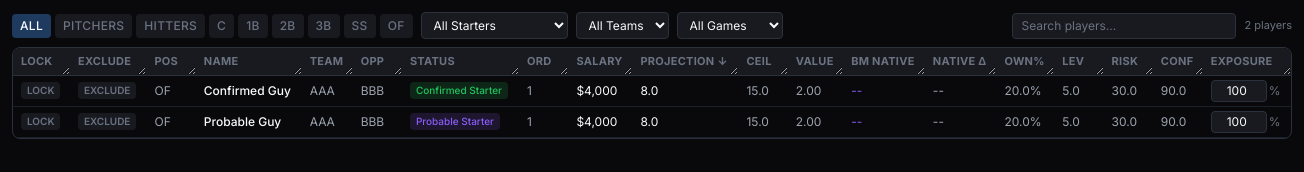
Test: PoolTable › the Starter filter narrows to Confirmed vs Probable
Select "Confirmed Starters" in the 1st dropdown showing "All Starters" at (494,26), box x1=420 y1=12 x2=568 y2=39
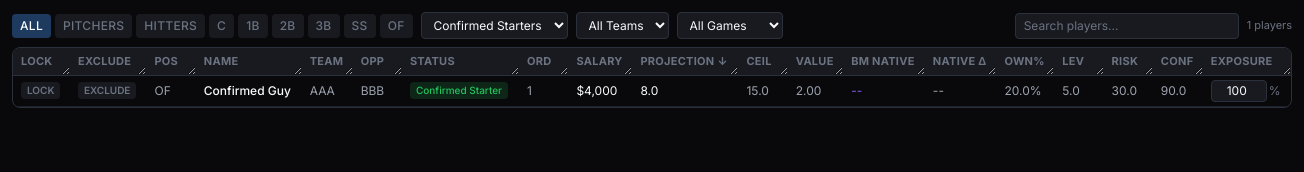
expect the button "Confirmed Guy" is shown: met, box x1=204 y1=83 x2=291 y2=99
expect the button "Probable Guy" is gone: met
Select "Probable Starters" in the 1st dropdown showing "Confirmed Starters" at (494,26), box x1=420 y1=12 x2=568 y2=39
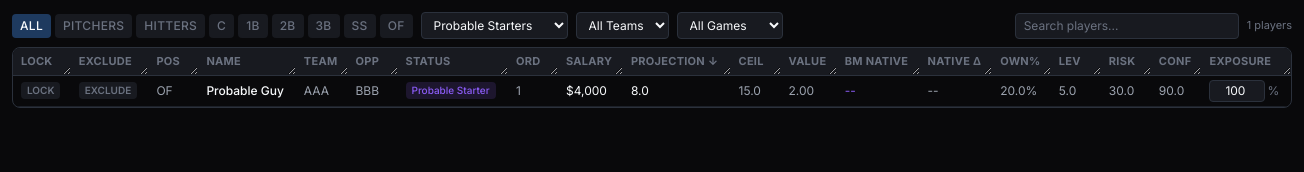
expect the button "Confirmed Guy" is gone: met
expect the button "Probable Guy" is shown: met, box x1=206 y1=83 x2=284 y2=99
